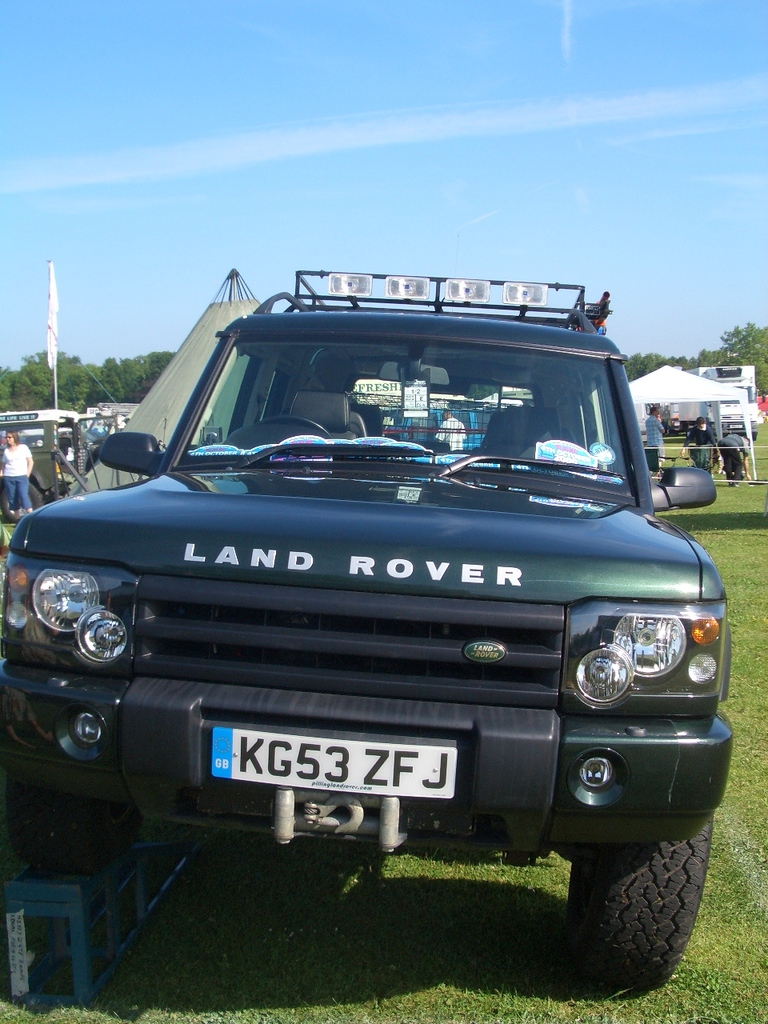Car: (0, 269, 734, 992)
